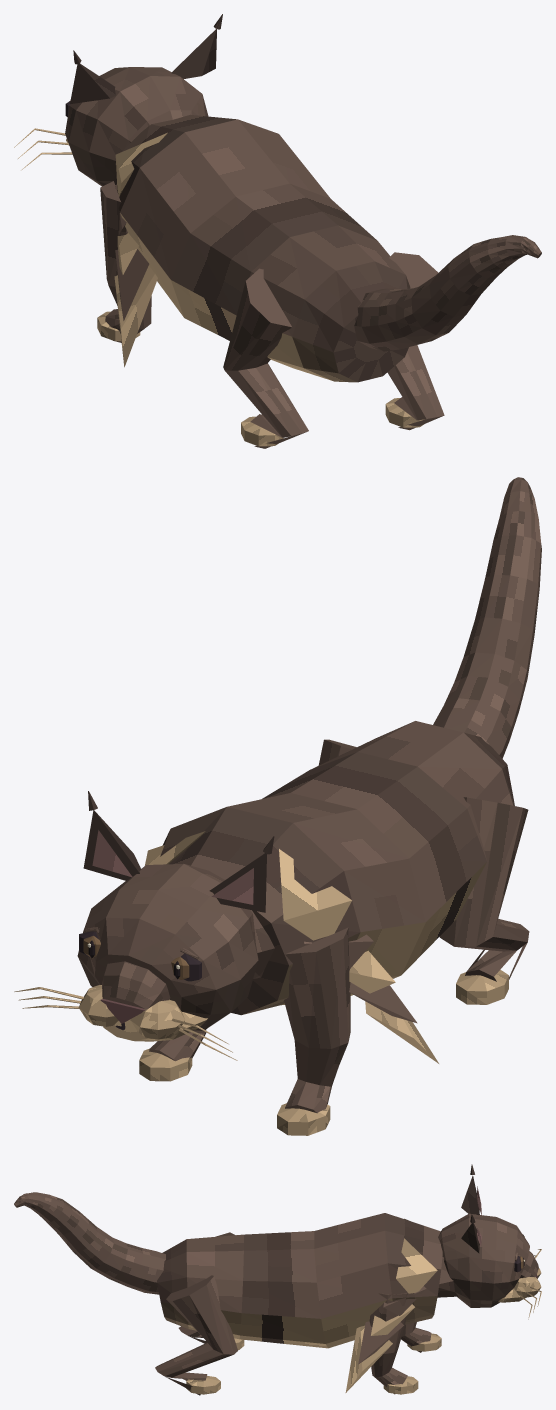
File: mon_cat_maine_coon_kitten.glb
3 renders of one model, top to bottom at view 1: azimuth 30°, elevation 25°; view 2: azimuth 150°, elevation 25°; view 3: azimuth 270°, elevation 25°, orthographic. The views are drawn at different scales.
Parts seen in each view (by area): view 1: closed_body; view 2: closed_body; view 3: closed_body.
Boxes of the visible parts, x1,y1,x2,y2 form: closed_body: [14, 14, 541, 448]; closed_body: [14, 477, 541, 1135]; closed_body: [14, 1164, 541, 1395].
Bounding box in the file's own units: 0.1181 × 0.1402 × 0.3392.
1 material, 1 textured.
